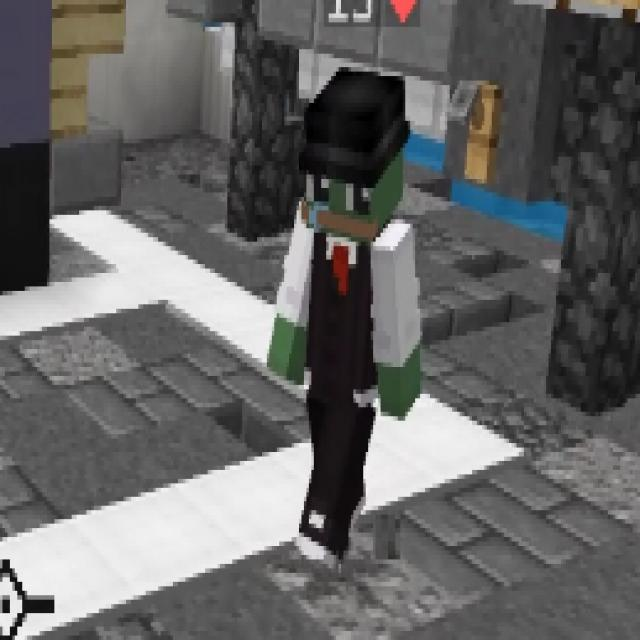Player: (266, 63, 422, 575)
